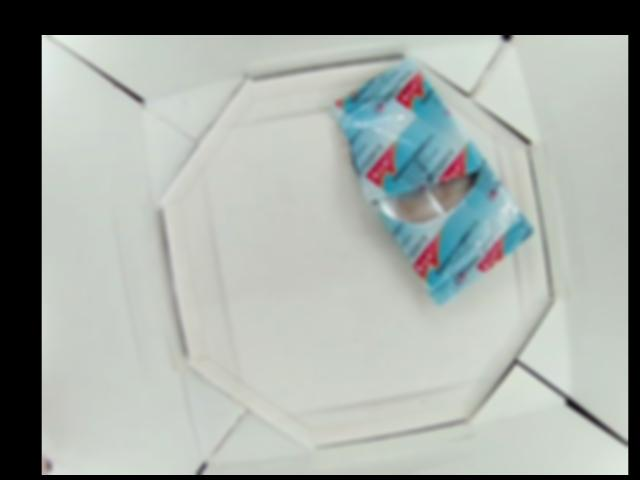Medicine: (334, 62, 535, 309)
